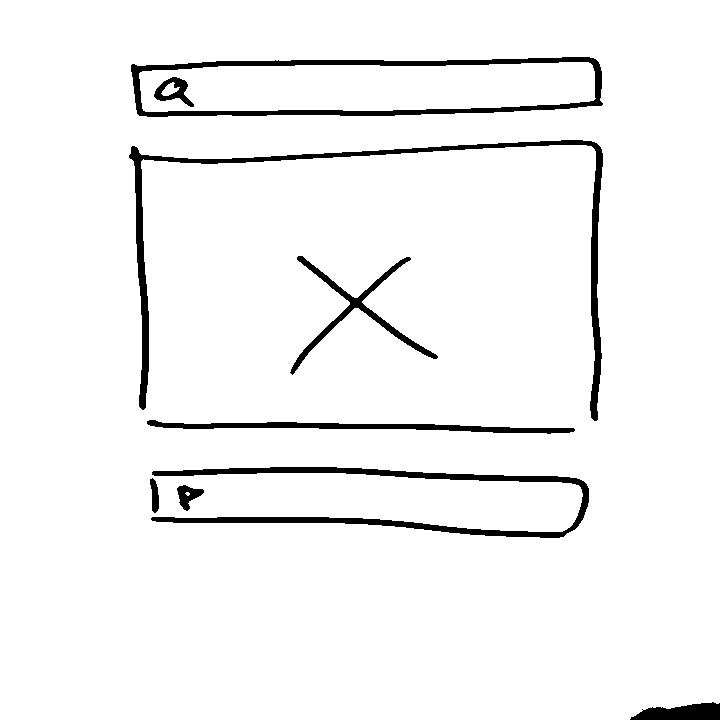paragraph: (146, 466, 591, 540)
picture: (126, 137, 608, 438)
search bar: (121, 54, 607, 121)
